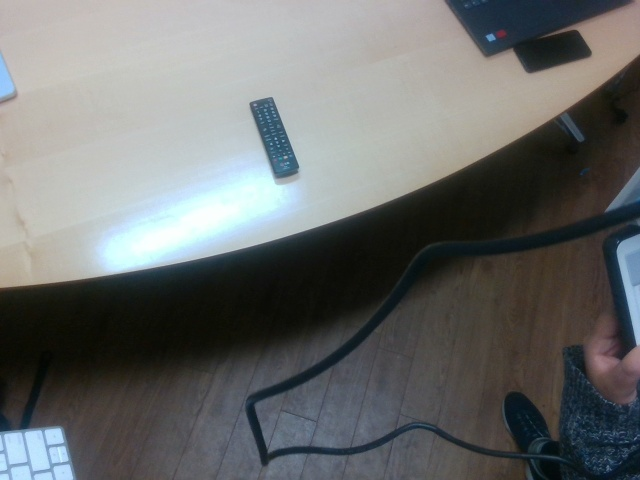remote: (248, 96, 301, 179)
